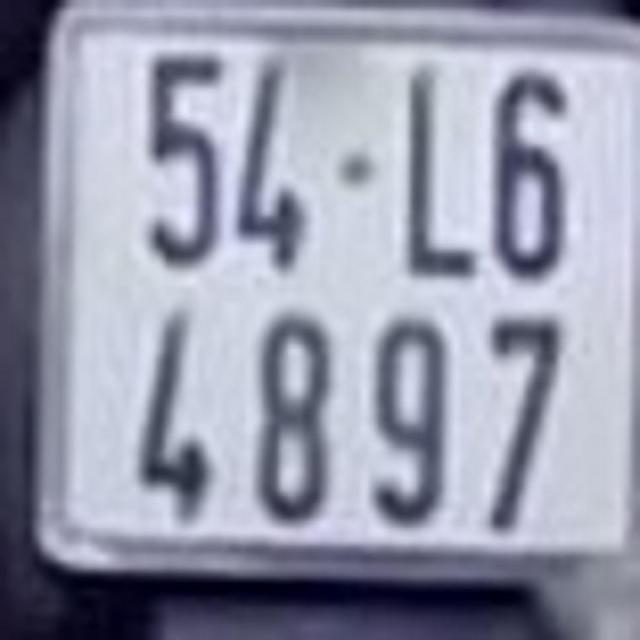4: (138, 304, 216, 520), (234, 51, 309, 272)
5: (143, 49, 221, 266)
6: (489, 61, 571, 286)
7: (478, 307, 564, 528)
8: (246, 304, 334, 520)
9: (369, 304, 450, 527)
L: (398, 64, 478, 284)
